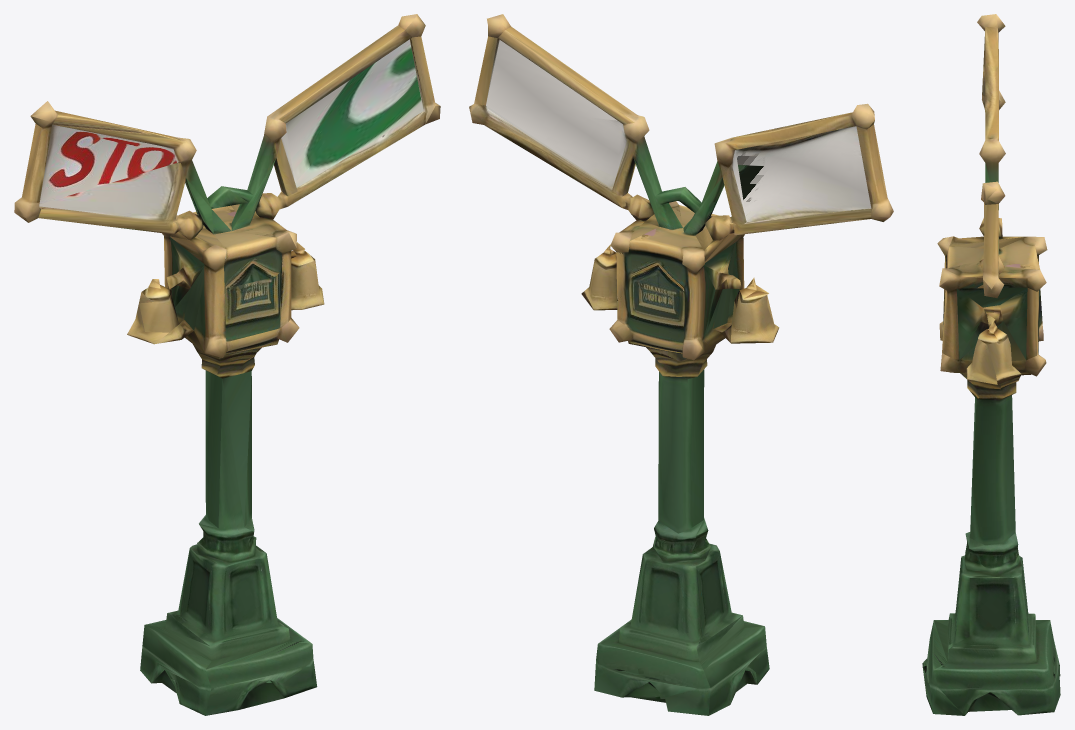
File: semaphore-signal.glb
3 views of the same model, side by side, from view 1: azimuth 30°, elevation 25°; view 2: azimuth 150°, elevation 25°; view 3: azimuth 270°, elevation 25° (orthographic). The views are drawn at different scales.
Parts seen in each view (by area): view 1: SM_semaphore-signal; view 2: SM_semaphore-signal; view 3: SM_semaphore-signal.
Boxes of the visible parts, x1=… form: SM_semaphore-signal: x1=14, y1=14, x2=440, y2=715; SM_semaphore-signal: x1=469, y1=14, x2=893, y2=715; SM_semaphore-signal: x1=922, y1=14, x2=1060, y2=715.
Size of the model in its own units: 2.58 by 3.6 by 0.7636.
1 material, 1 textured.
